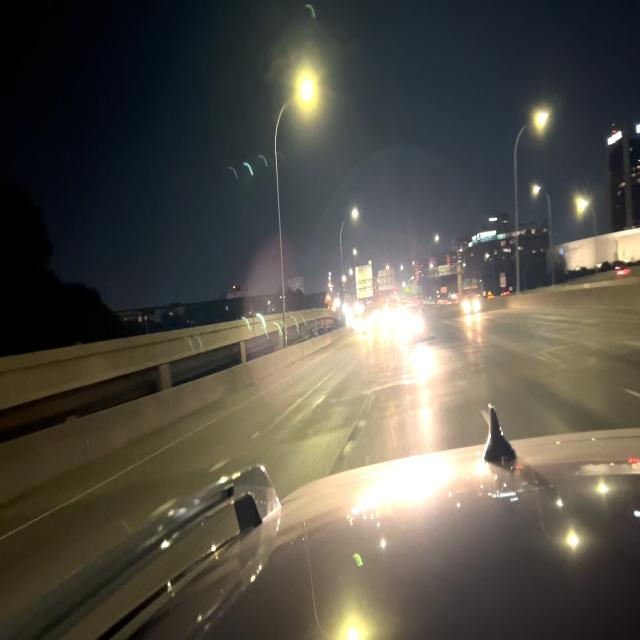back-of-sign: (355, 263, 374, 302), (378, 266, 397, 294)
